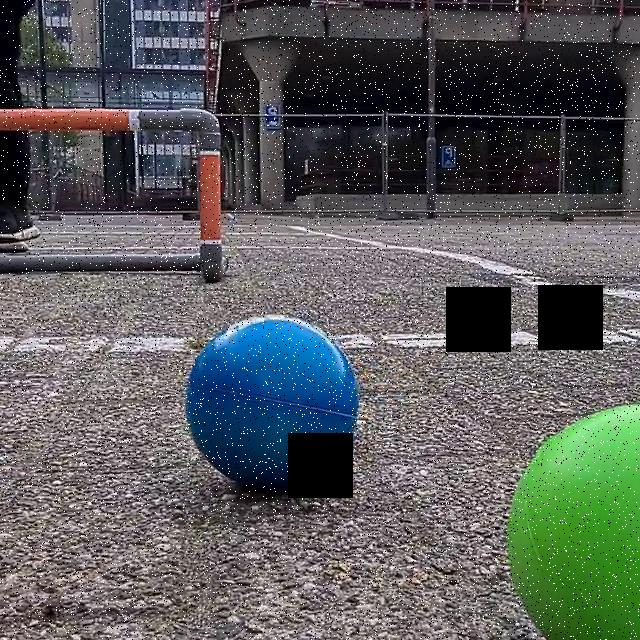ball: (185, 312, 363, 492), (505, 403, 639, 640)
